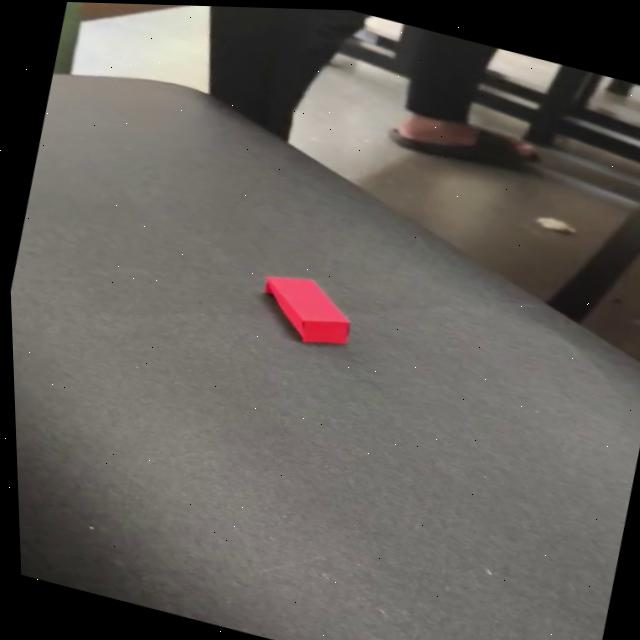red block: (252, 265, 361, 352)
